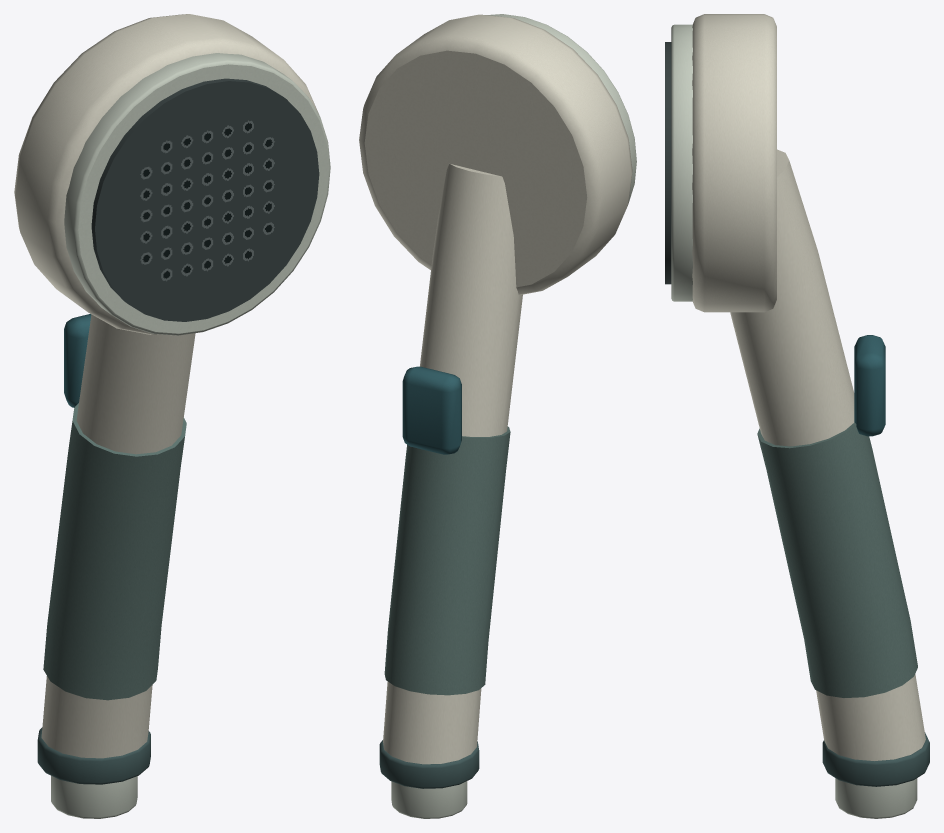
File: Shower.fbx
3 renders of one model, left to right at view 1: azimuth 30°, elevation 25°; view 2: azimuth 150°, elevation 25°; view 3: azimuth 270°, elevation 25°, orthographic. The views are drawn at different scales.
Parts seen in each view (by area): view 1: Shower_Mesh; view 2: Shower_Mesh; view 3: Shower_Mesh.
Part boxes in pixels (bbox=[...]): Shower_Mesh: bbox=[14, 14, 330, 818]; Shower_Mesh: bbox=[359, 14, 636, 818]; Shower_Mesh: bbox=[665, 14, 929, 818].
Bounding box in the file's own units: 0.095 × 0.2714 × 0.084.
Materials: 1 (1 with a texture image).
